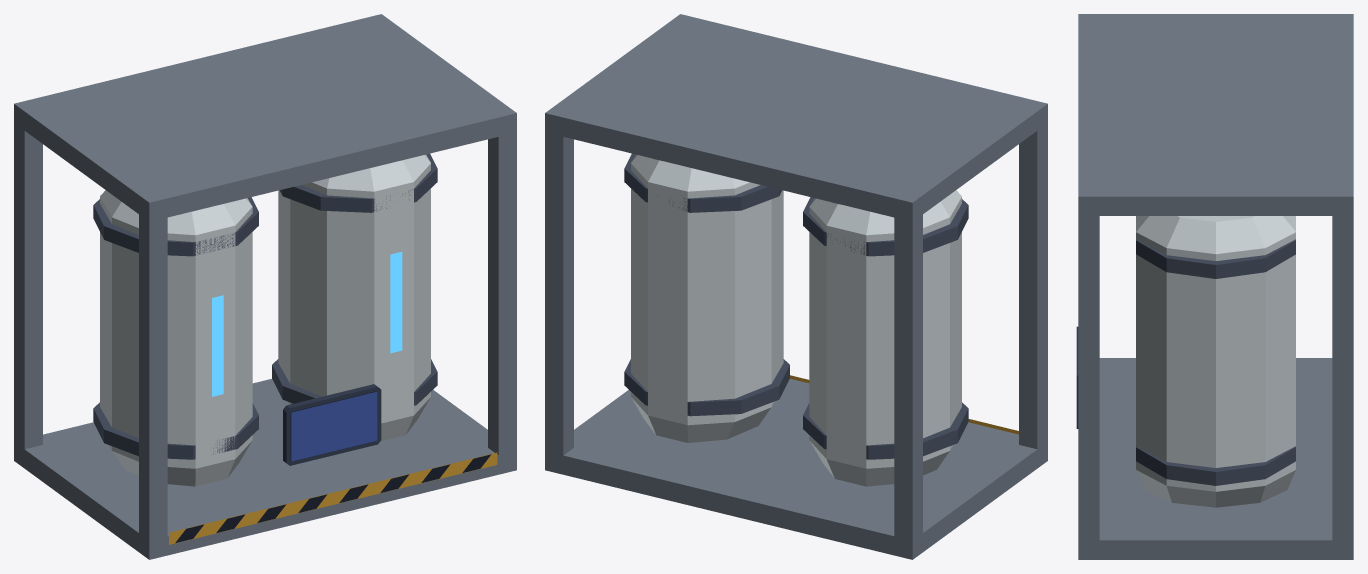
The model's file is fus_cryopump_unit.glb.
The picture shows the model from 3 angles, left to right: view 1: azimuth 30°, elevation 25°; view 2: azimuth 150°, elevation 25°; view 3: azimuth 270°, elevation 25°; orthographic projection.
Visible parts, largest first — view 1: corner_post, cryo_cylinder, jacket_band, print, warning_band, coolant_sight, slash, bezel; view 2: corner_post, cryo_cylinder, jacket_band; view 3: corner_post, cryo_cylinder, jacket_band.
Part boxes in pixels (box(x1,y1,x2,y2)): corner_post: box(14, 14, 516, 559); cryo_cylinder: box(100, 154, 430, 486); jacket_band: box(93, 153, 437, 459); print: box(291, 391, 377, 461); warning_band: box(169, 452, 497, 544); coolant_sight: box(212, 251, 402, 396); slash: box(175, 391, 491, 542); bezel: box(283, 384, 381, 465); corner_post: box(545, 14, 1047, 559); cryo_cylinder: box(631, 154, 961, 486); jacket_band: box(624, 153, 968, 459); corner_post: box(1078, 14, 1353, 559); cryo_cylinder: box(1136, 216, 1295, 507); jacket_band: box(1136, 239, 1295, 485).
Bounding box in the file's own units: 2.8 × 2.6 × 1.8.
